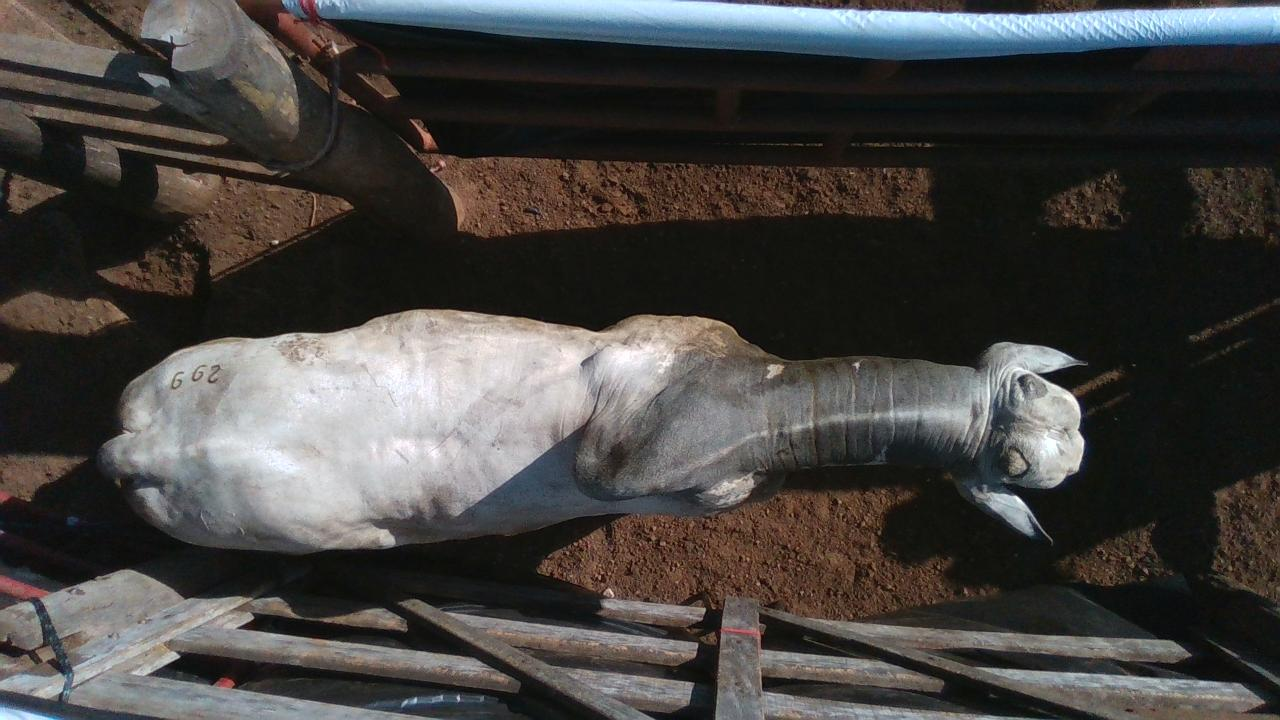cattle: (95, 306, 1089, 556)
